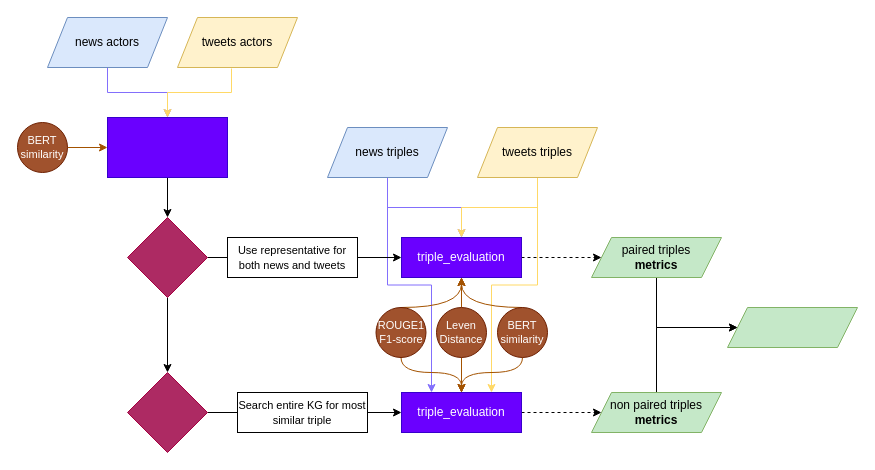
This 875x470 diagram has some shape labels left out. Here are the shapes that lost their labels. From the top down, the centre of each, then its label:
At (x=167, y=147): "cluster_similarity".
At (x=167, y=257): "similarity > 0.8".
At (x=792, y=327): "Total triples metrics".
At (x=167, y=412): "similarity <= 0.8".
